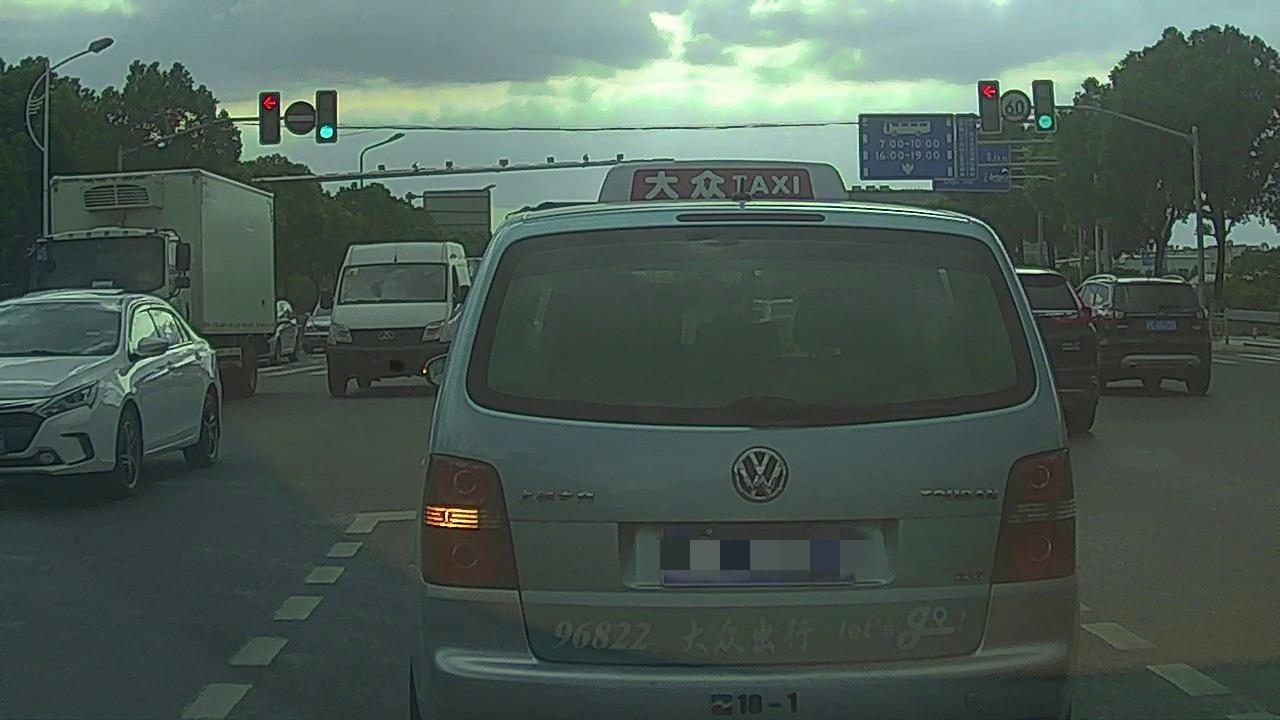traffic_light: (1033, 81, 1055, 132), (315, 92, 336, 142), (979, 81, 999, 133), (261, 94, 279, 143)
